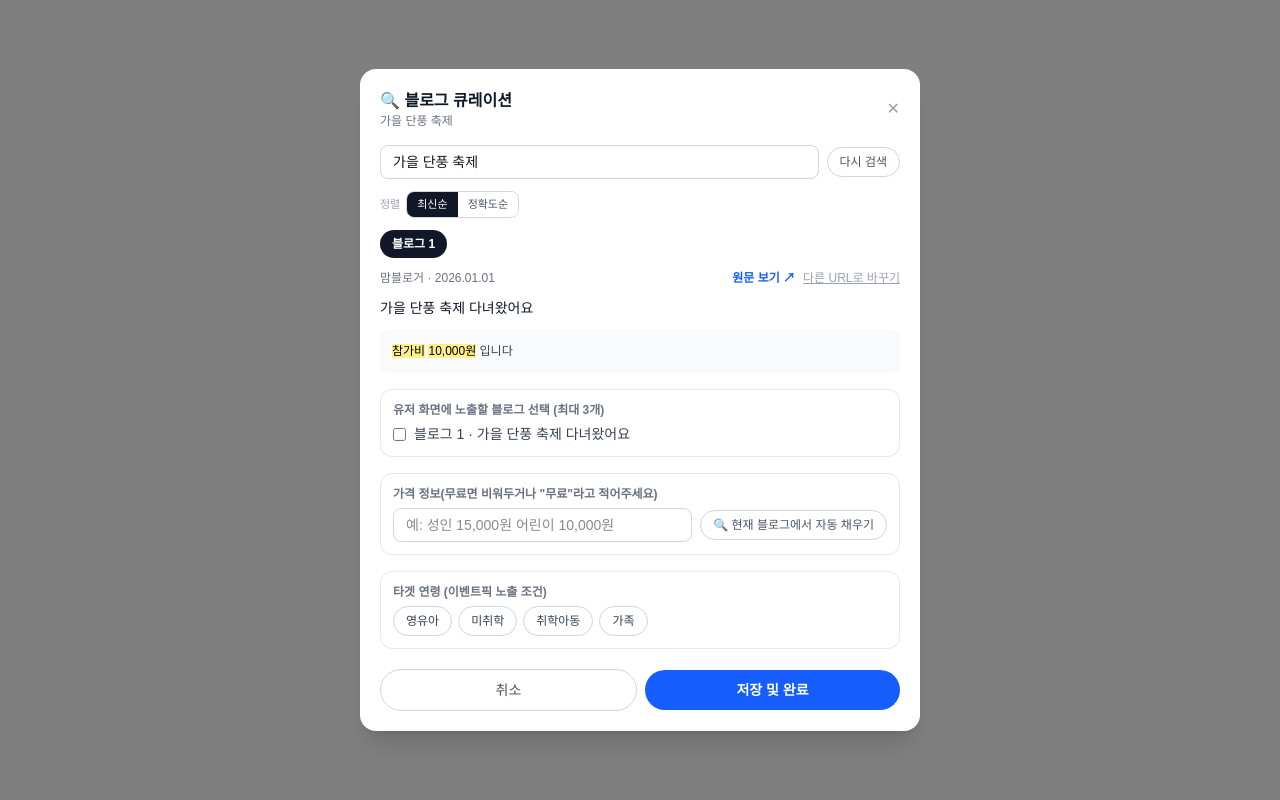
it: EventBlogCurationModal › "현재 블로그에서 자동 채우기" 버튼을 누르면 블로그 본문/요약에서 가격을 찾아 입력란을 채운다
Expected: the text "가을 단풍 축제 다녀왔어요" is shown, x1=380 y1=300 x2=533 y2=316
Click the button "🔍 현재 블로그에서 자동 채우기" at (794, 525), box x1=700 y1=510 x2=887 y2=540
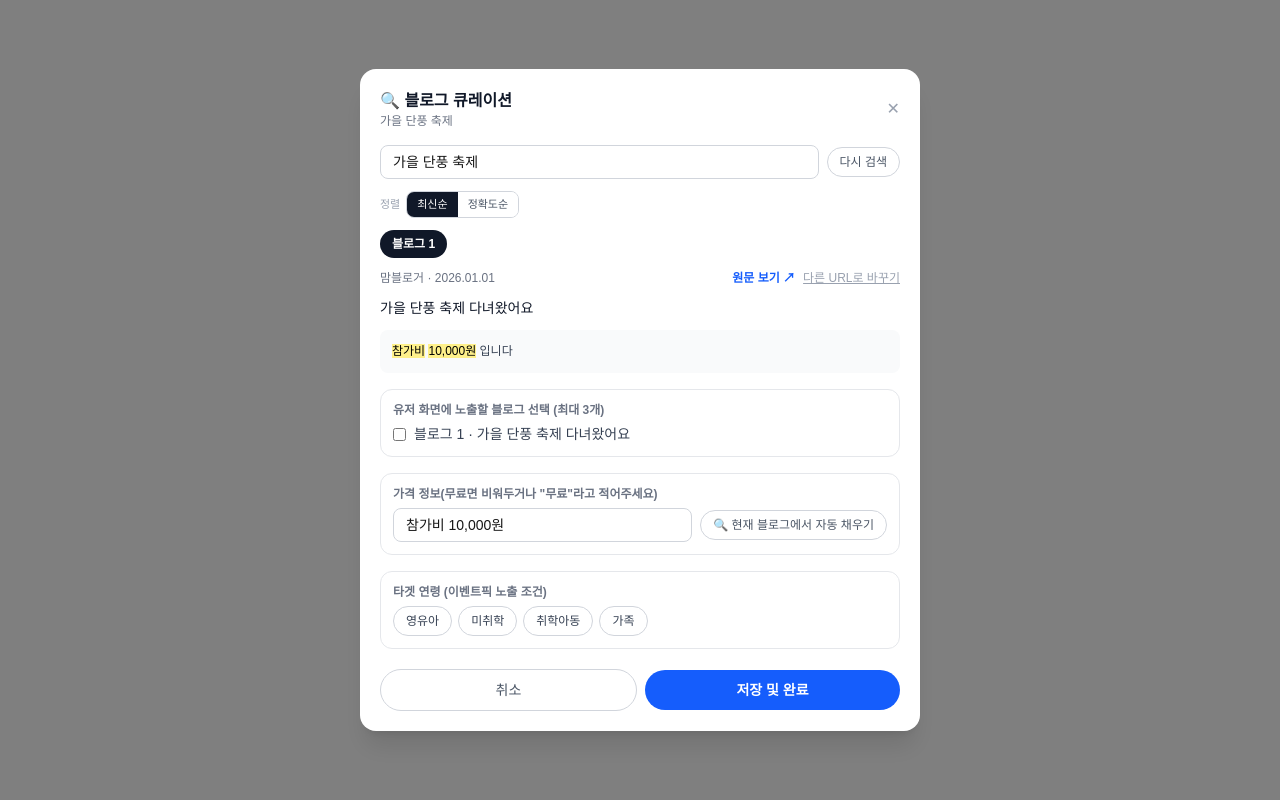
Expected: the field labelled "가격 정보(무료면 비워두거나 \"무료\"라고 적어주세요)" holds "참가비 10,000원", x1=393 y1=508 x2=692 y2=542
